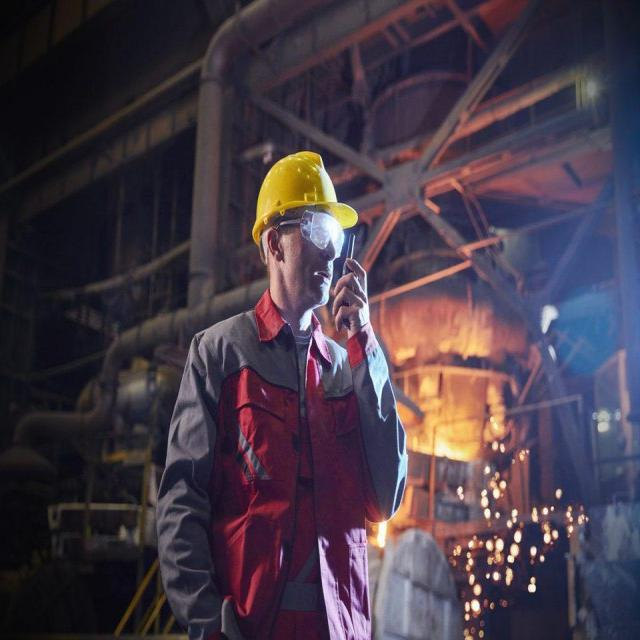Reflective-Jacket: (153, 313, 400, 631)
Safety-Helmet: (248, 145, 359, 242)
